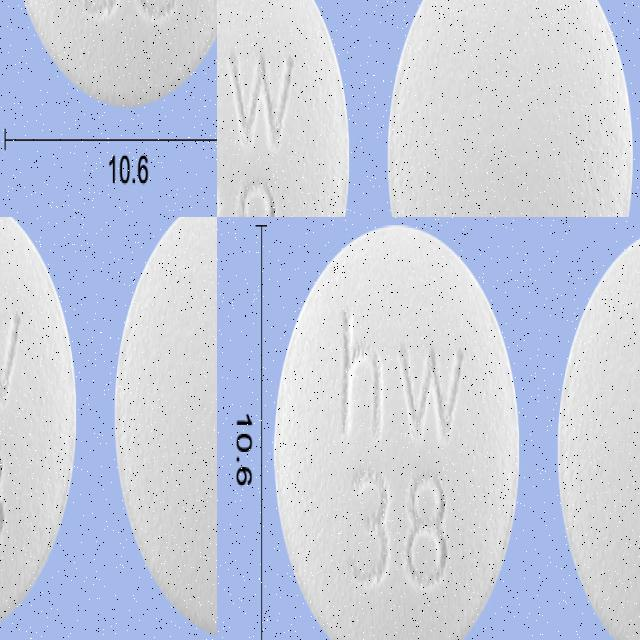Aclova 400mg: (389, 0, 634, 217), (217, 0, 353, 217)
Ceclacin: (0, 360, 126, 640), (97, 217, 217, 440)
Cirokan: (270, 218, 526, 640), (552, 220, 640, 640)
Clirocin: (2, 0, 217, 110)
